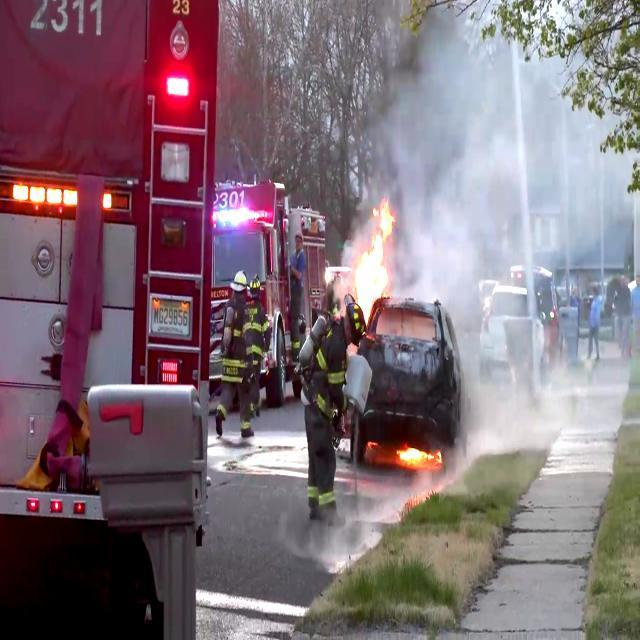Fire: (352, 196, 400, 314), (391, 434, 438, 467)
Smoke: (398, 0, 638, 460)
